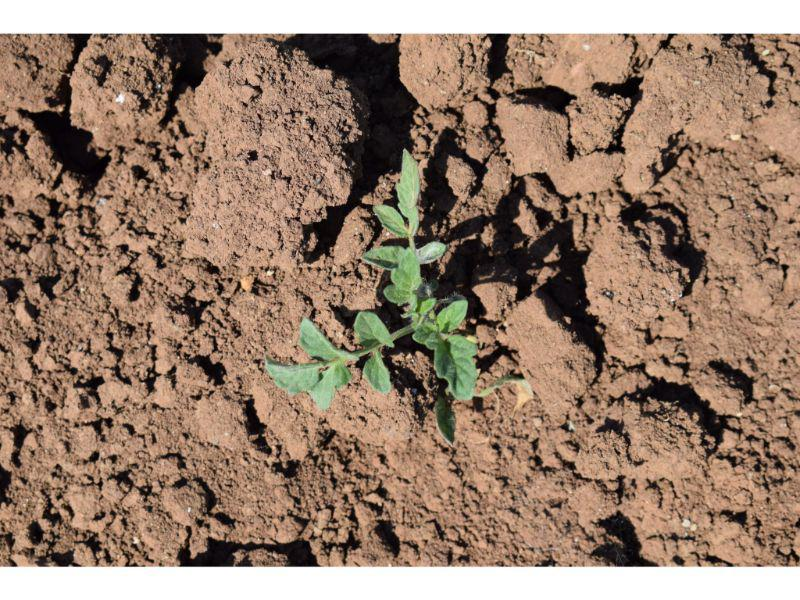tomato: (264, 148, 477, 412)
